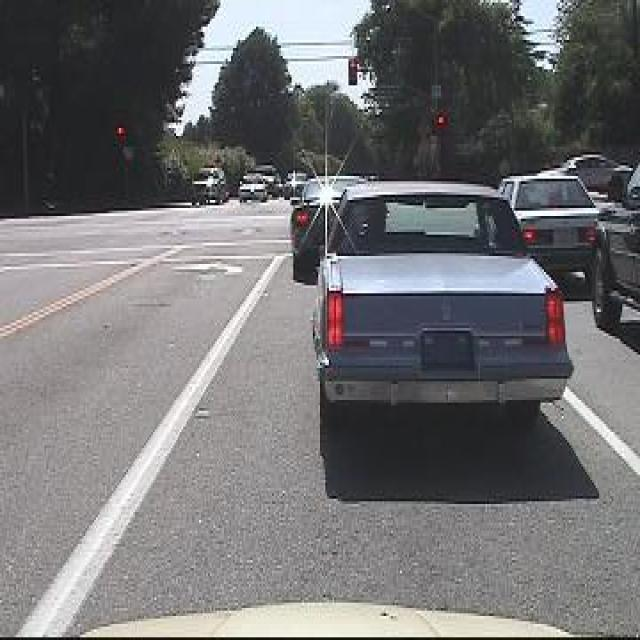car_back: (306, 174, 574, 426), (498, 165, 604, 272), (289, 166, 370, 285)
car_front: (188, 162, 231, 208), (237, 168, 269, 206)
